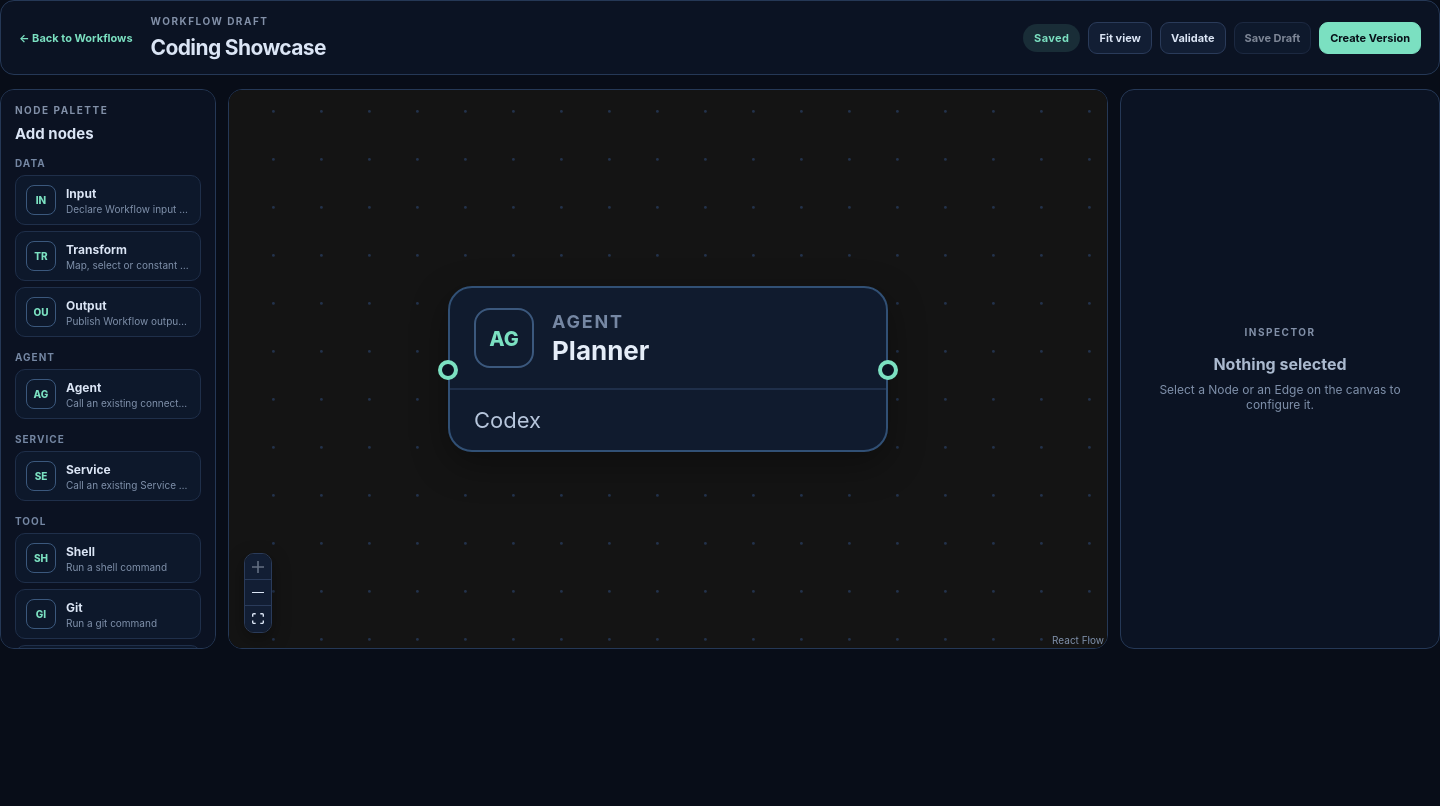
Test: WorkflowBuilderPage › marks validation stale after a semantic graph change
Expected: the heading "Coding Showcase" is shown, [151, 35, 326, 60]
Click the button "Validate" at (1193, 38), box [1160, 22, 1226, 54]
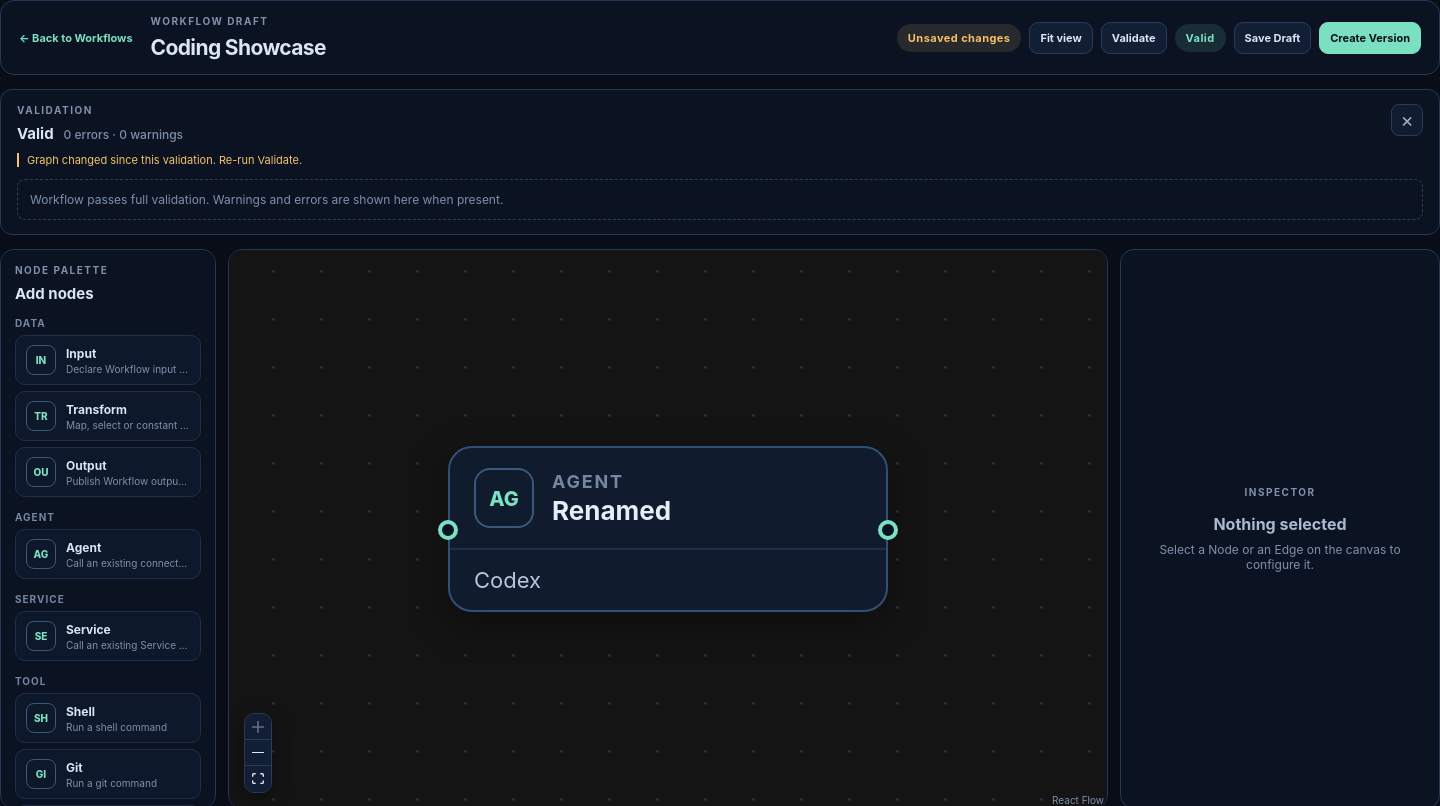
Now the button named "Close validation panel" is shown, box [1391, 104, 1423, 136]
